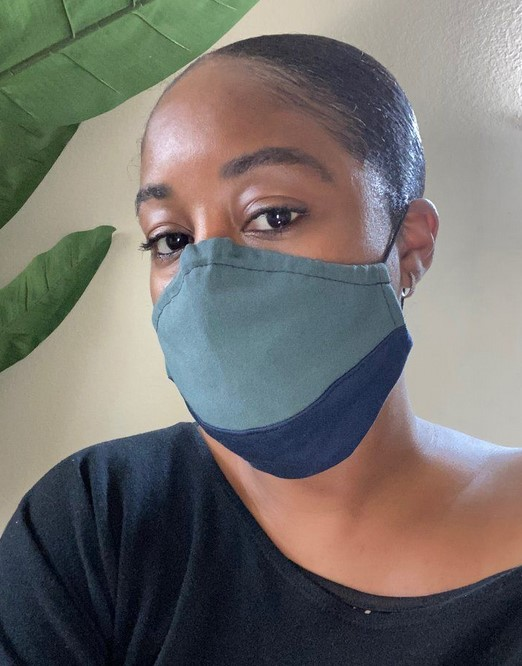face_with_mask: (143, 36, 426, 480)
